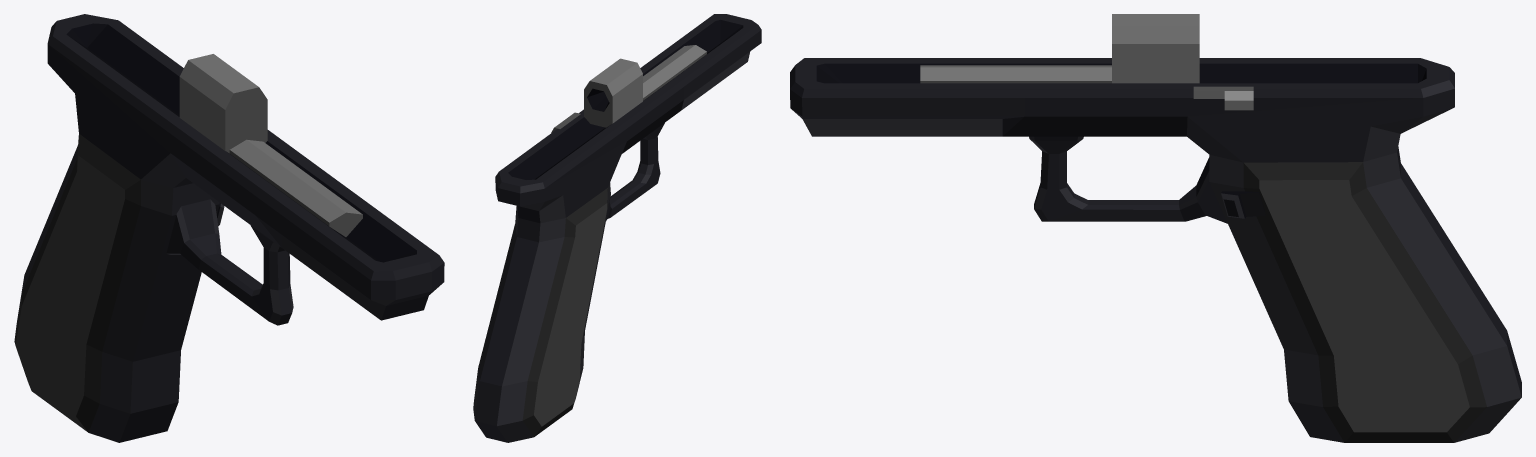
Rendered from MW1_Platform_9mm_02.fbx.
3 renders of one model, left to right at view 1: azimuth 30°, elevation 25°; view 2: azimuth 150°, elevation 25°; view 3: azimuth 270°, elevation 25°, orthographic. The views are drawn at different scales.
Visible parts, largest first — view 1: Platform_9mm_02; view 2: Platform_9mm_02; view 3: Platform_9mm_02.
Boxes of the visible parts, x1,y1,x2,y2 form: Platform_9mm_02: (14, 14, 444, 442); Platform_9mm_02: (473, 14, 761, 442); Platform_9mm_02: (790, 14, 1521, 442).
Bounding box in the file's own units: 3.16 × 14.25 × 23.29.
